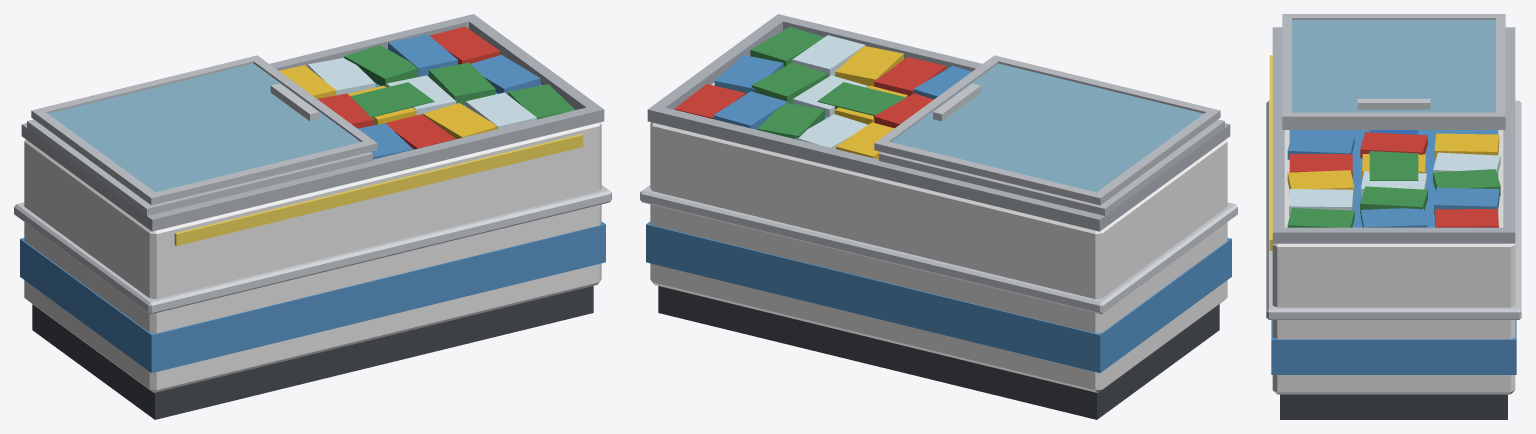
File: Freezer_Island_Lid_2m.fbx
The picture shows the model from 3 angles, left to right: view 1: azimuth 30°, elevation 25°; view 2: azimuth 150°, elevation 25°; view 3: azimuth 270°, elevation 25°; orthographic projection. The views are drawn at different scales.
Visible parts, largest first — view 1: Freezer_Island_Lid_2m, Freezer_Island_Lid_2m_Lid_Slide_B, Freezer_Island_Lid_2m_Lid_Slide_A; view 2: Freezer_Island_Lid_2m, Freezer_Island_Lid_2m_Lid_Slide_B, Freezer_Island_Lid_2m_Lid_Slide_A; view 3: Freezer_Island_Lid_2m, Freezer_Island_Lid_2m_Lid_Slide_B, Freezer_Island_Lid_2m_Lid_Slide_A.
Boxes of the visible parts, box(x1,y1,x2,y2) form: Freezer_Island_Lid_2m: box(14, 14, 611, 419); Freezer_Island_Lid_2m_Lid_Slide_B: box(31, 55, 377, 205); Freezer_Island_Lid_2m_Lid_Slide_A: box(27, 119, 372, 215); Freezer_Island_Lid_2m: box(640, 14, 1237, 419); Freezer_Island_Lid_2m_Lid_Slide_B: box(874, 55, 1220, 205); Freezer_Island_Lid_2m_Lid_Slide_A: box(879, 119, 1224, 215); Freezer_Island_Lid_2m: box(1266, 27, 1521, 419); Freezer_Island_Lid_2m_Lid_Slide_B: box(1282, 14, 1505, 123); Freezer_Island_Lid_2m_Lid_Slide_A: box(1282, 123, 1505, 129).
Size of the model in its own units: 2.05 by 0.96 by 1.05.
Materials: 1 (1 with a texture image).
